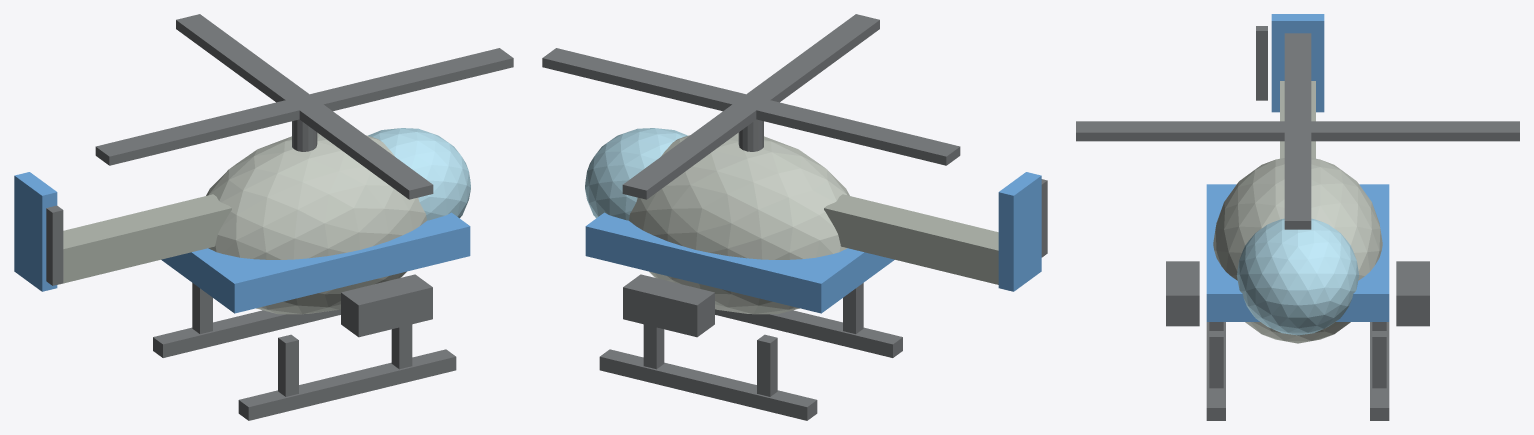
The model's file is heli_blue.glb.
3 renders of one model, left to right at view 1: azimuth 30°, elevation 25°; view 2: azimuth 150°, elevation 25°; view 3: azimuth 270°, elevation 25°, orthographic. The views are drawn at different scales.
Parts seen in each view (by area): view 1: part00, part02, part07, part03, part08, part09, part01, part15, part04, part12, part05, part11 (+3 smaller); view 2: part00, part02, part07, part03, part08, part12, part01, part04, part16, part09, part14, part13 (+3 smaller); view 3: part01, part00, part08, part02, part07, part04, part15, part16, part09, part12, part05, part10 (+2 smaller).
Boxes of the visible parts, x1,y1,x2,y2 form: part00: [206, 133, 426, 314]; part02: [161, 212, 470, 313]; part07: [95, 48, 513, 165]; part03: [57, 194, 231, 284]; part08: [176, 14, 433, 199]; part09: [238, 349, 456, 420]; part01: [368, 128, 470, 220]; part15: [341, 274, 432, 337]; part04: [14, 172, 57, 291]; part12: [153, 309, 340, 357]; part05: [46, 205, 63, 285]; part11: [278, 334, 298, 396]; part00: [629, 133, 849, 314]; part02: [585, 212, 894, 313]; part07: [542, 48, 960, 165]; part03: [824, 194, 998, 284]; part08: [622, 14, 879, 199]; part12: [599, 349, 817, 420]; part01: [585, 128, 687, 220]; part04: [998, 172, 1041, 291]; part16: [623, 274, 714, 337]; part09: [715, 309, 902, 357]; part14: [757, 334, 777, 396]; part13: [643, 324, 664, 369]; part01: [1237, 218, 1358, 335]; part00: [1213, 158, 1382, 343]; part08: [1076, 121, 1519, 141]; part02: [1206, 184, 1389, 321]; part07: [1284, 33, 1311, 229]; part04: [1271, 14, 1324, 112]; part15: [1166, 261, 1199, 326]; part16: [1396, 261, 1429, 326]; part09: [1206, 322, 1225, 420]; part12: [1370, 322, 1389, 420]; part05: [1256, 26, 1267, 100]; part10: [1209, 331, 1223, 388].
Size of the model in its own units: 2.19 by 1.13 by 1.85.
